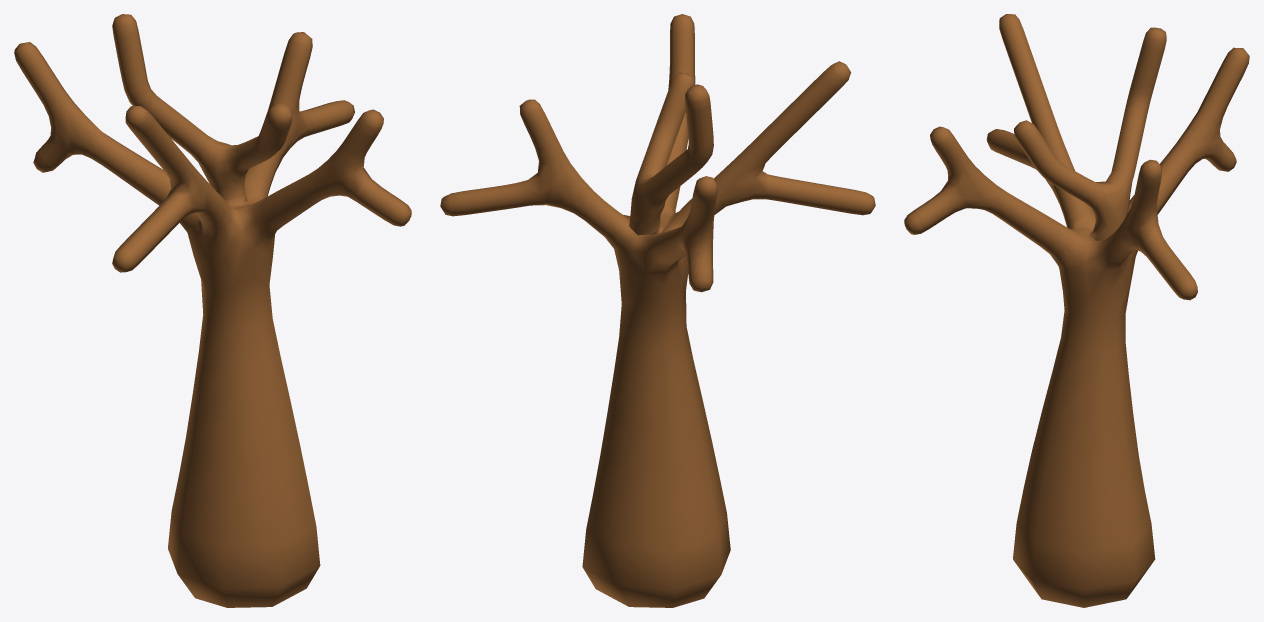
The model's file is Dry Tree.fbx.
3 views of the same model, side by side, from view 1: azimuth 30°, elevation 25°; view 2: azimuth 150°, elevation 25°; view 3: azimuth 270°, elevation 25° (orthographic). The views are drawn at different scales.
Parts seen in each view (by area): view 1: Tree; view 2: Tree; view 3: Tree.
Boxes of the visible parts, <box> form: Tree: <box>14,14,411,607</box>; Tree: <box>440,14,875,607</box>; Tree: <box>904,14,1249,607</box>.
Bounding box in the file's own units: 455 × 728 × 430.
